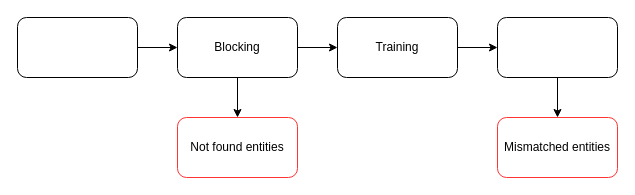
Some shapes in this 635 by 195 pixel diagram are drawn without their labels. The shapes that lost their labels are listed below. From the top down, each one's centre as x and y in pixels, then its label:
[77,47]: Loading Data
[557,47]: Testing
